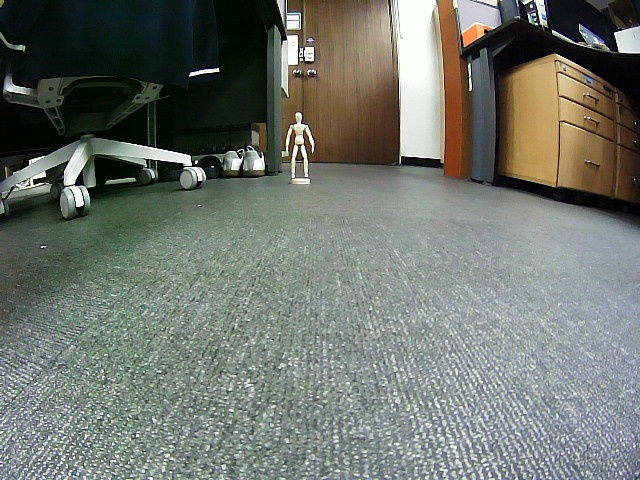person: (285, 112, 315, 178)
